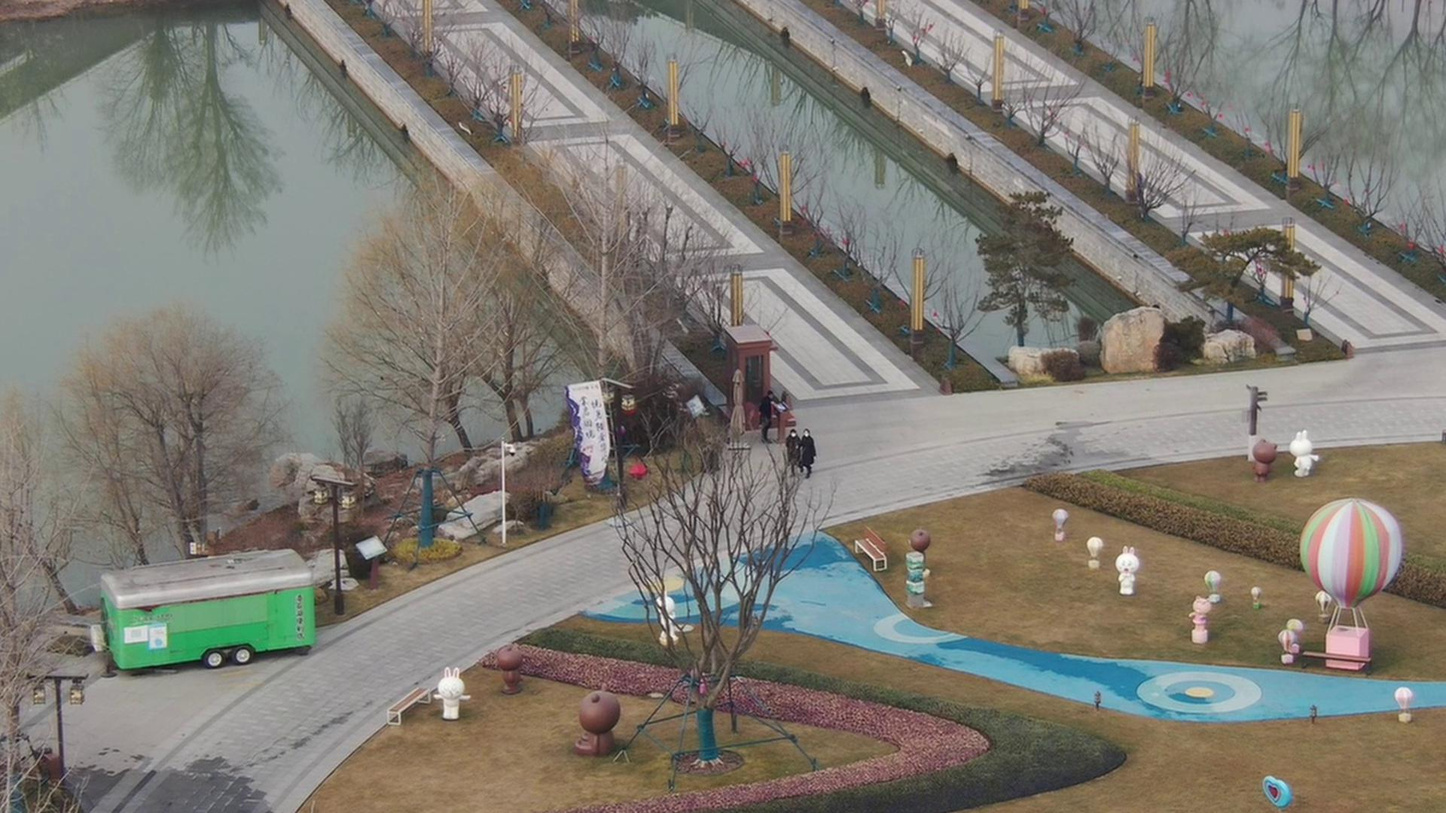class_2: (779, 426, 813, 486)
human: (752, 389, 773, 454)
